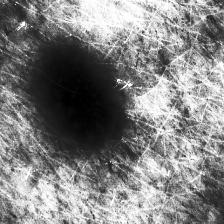Benign Marking or Mole: (31, 46, 125, 148)
